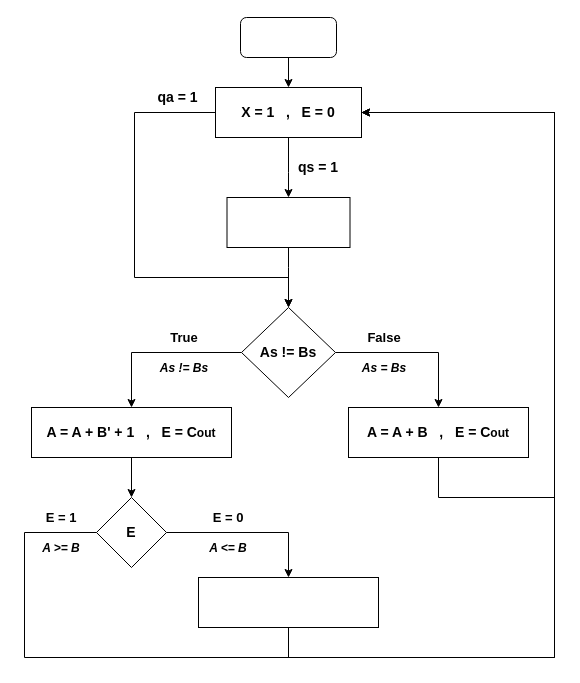
The diagram is 580 pixels wide and 683 high, and some of its shapes have lost their labels. The shapes that lost their labels are listed below. From the top down, each one's centre as x and y in pixels, then its label:
the point at 288,37: Start
the point at 288,222: Bs = Bs'
the point at 288,602: A = A' + 1 , As = As'
